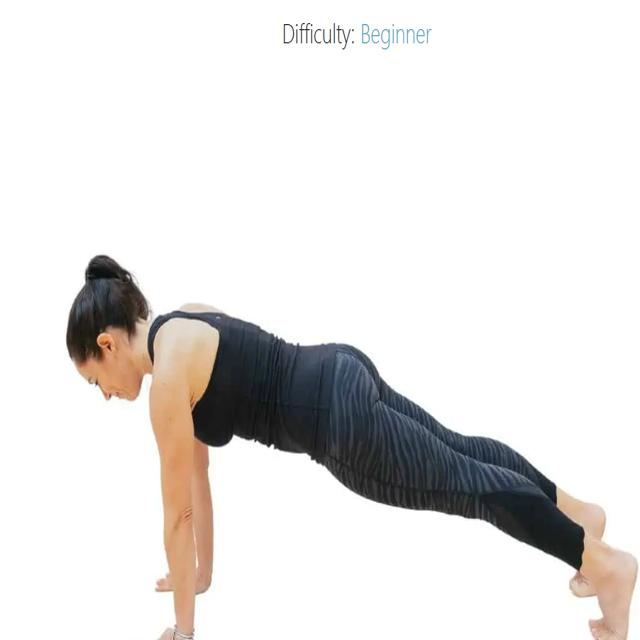Plank_Pose: (62, 247, 638, 640)
